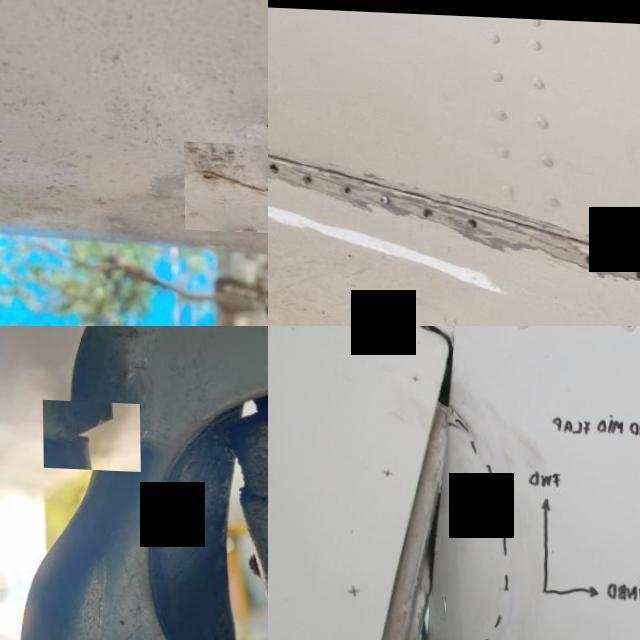Crack: (182, 138, 268, 236), (42, 398, 140, 469), (428, 594, 444, 620)
Missing_Fastener: (579, 248, 598, 262), (418, 203, 436, 216), (462, 215, 478, 227), (268, 160, 280, 172), (340, 184, 353, 194), (300, 174, 313, 184)
